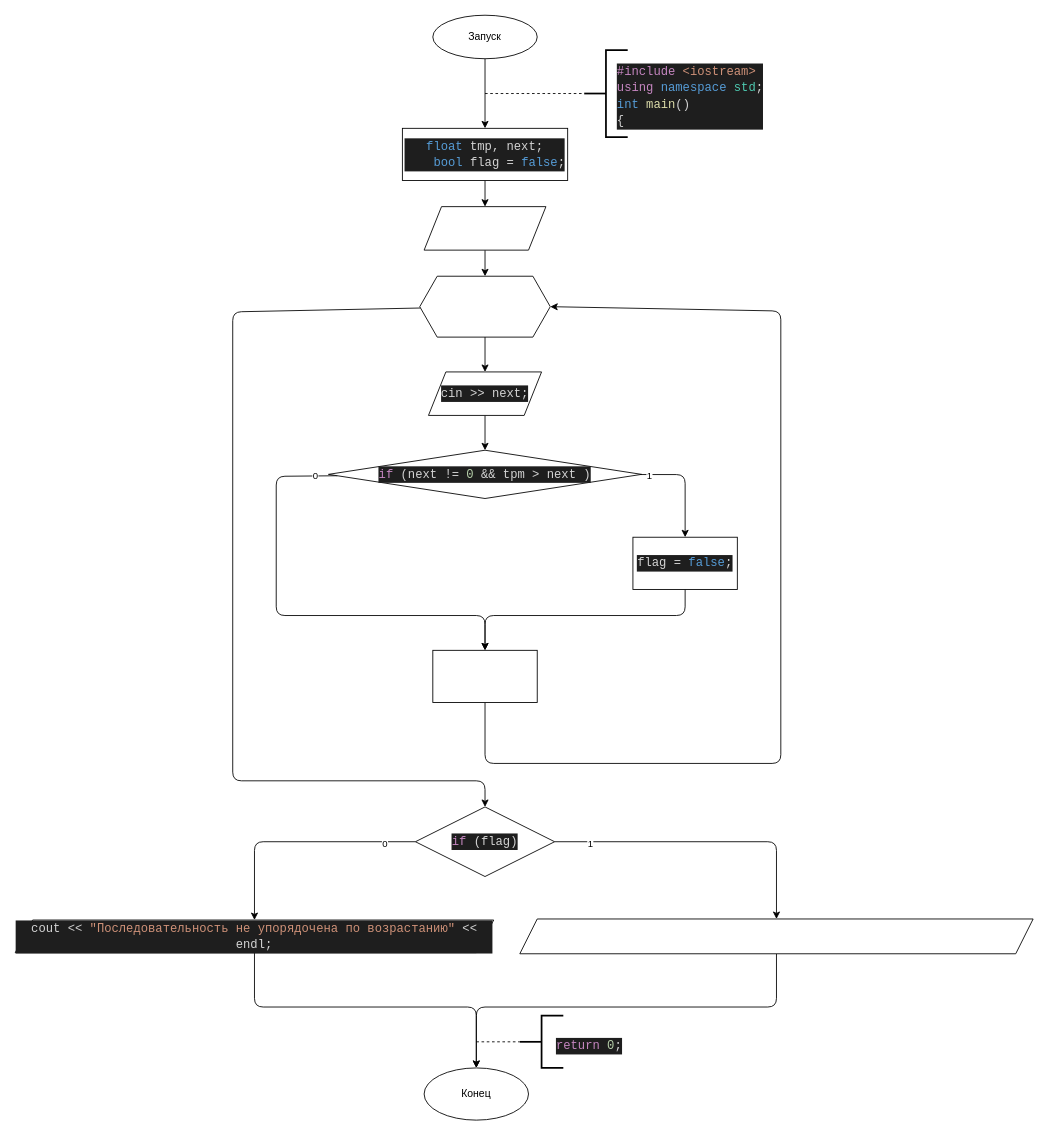
The diagram is 1048 pixels wide and 1135 high, and some of its shapes have lost their labels. The centre of each missing label's shape, as x and y in pixels:
cin >> tmp;: (x=484, y=228)
cout << "Последовательность упорядочена по возрастанию" << endl;: (x=776, y=936)
tmp = next;: (x=484, y=676)
while ( tmp != 0 ): (x=484, y=306)
